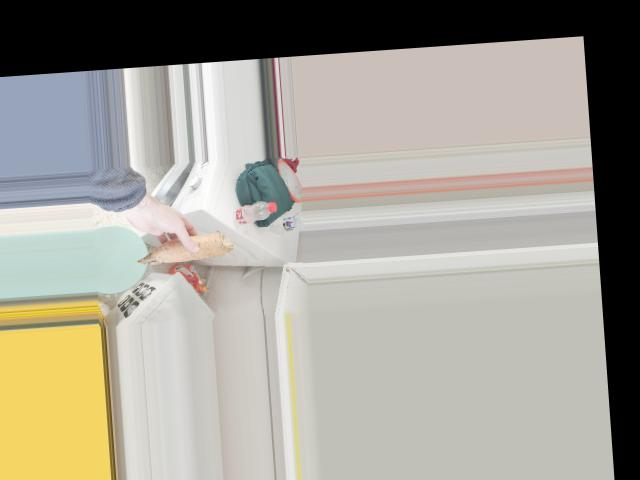sweet_potato: (136, 231, 230, 273)
